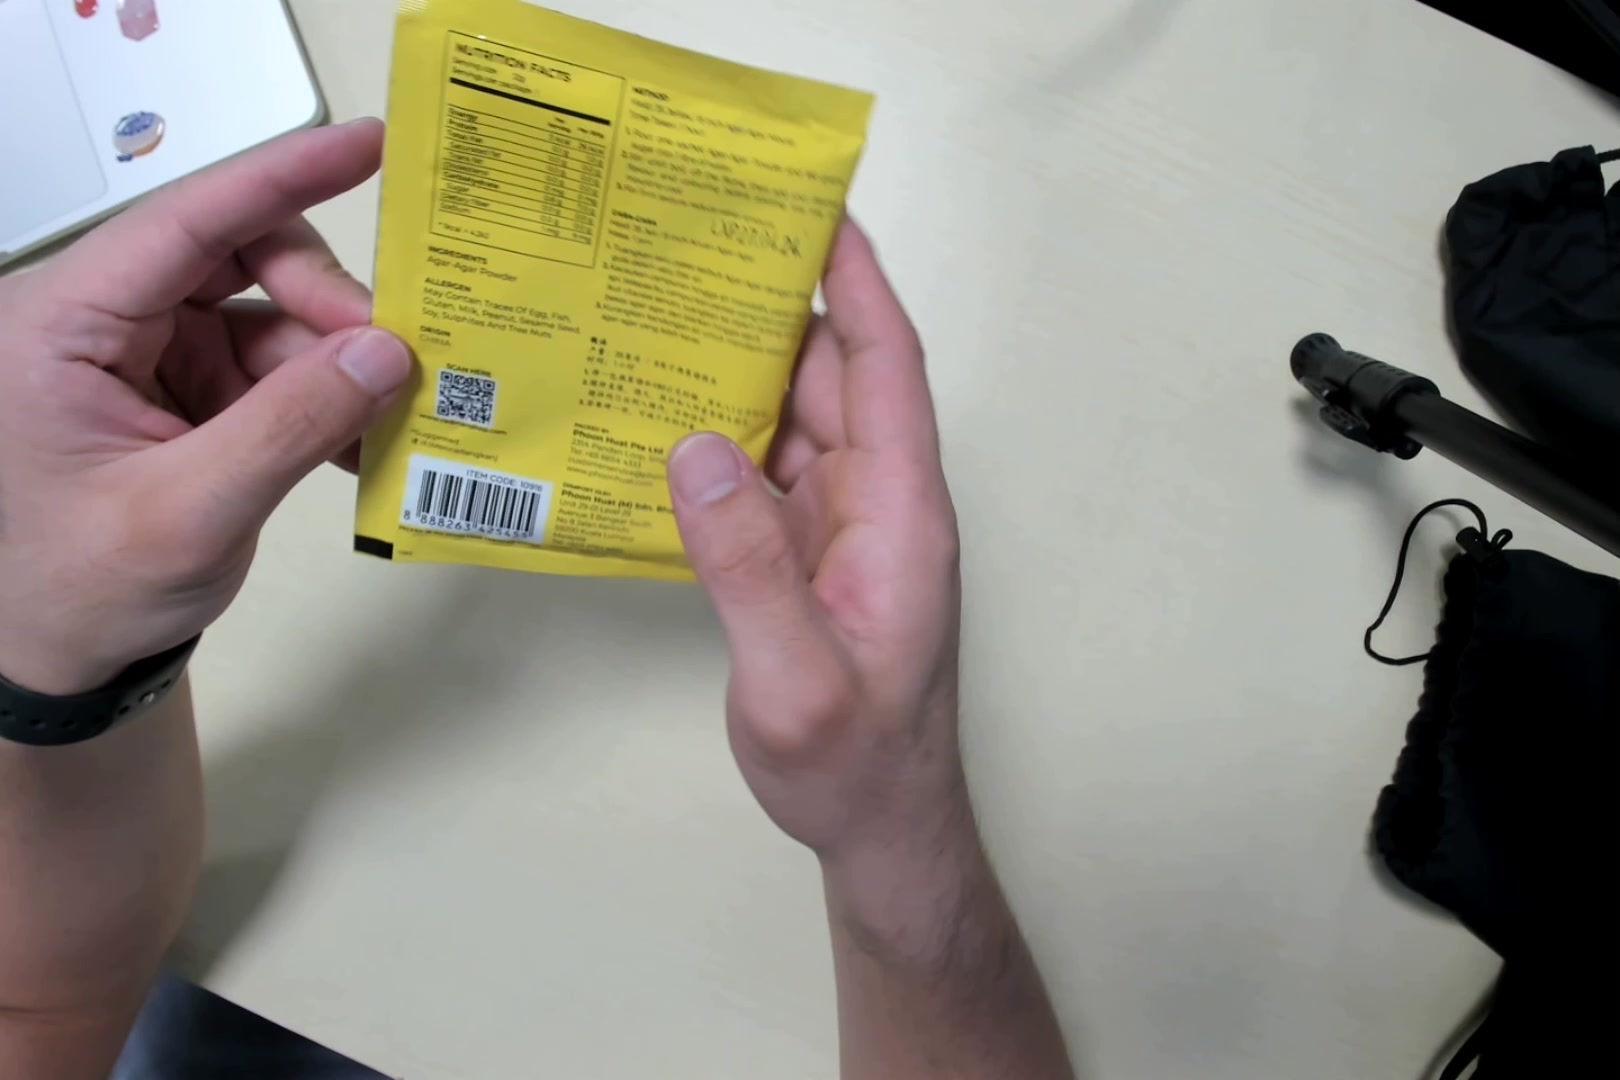OtherBakingNeeds_0-99g_Halal_NonHealthy: (354, 1, 862, 595)
